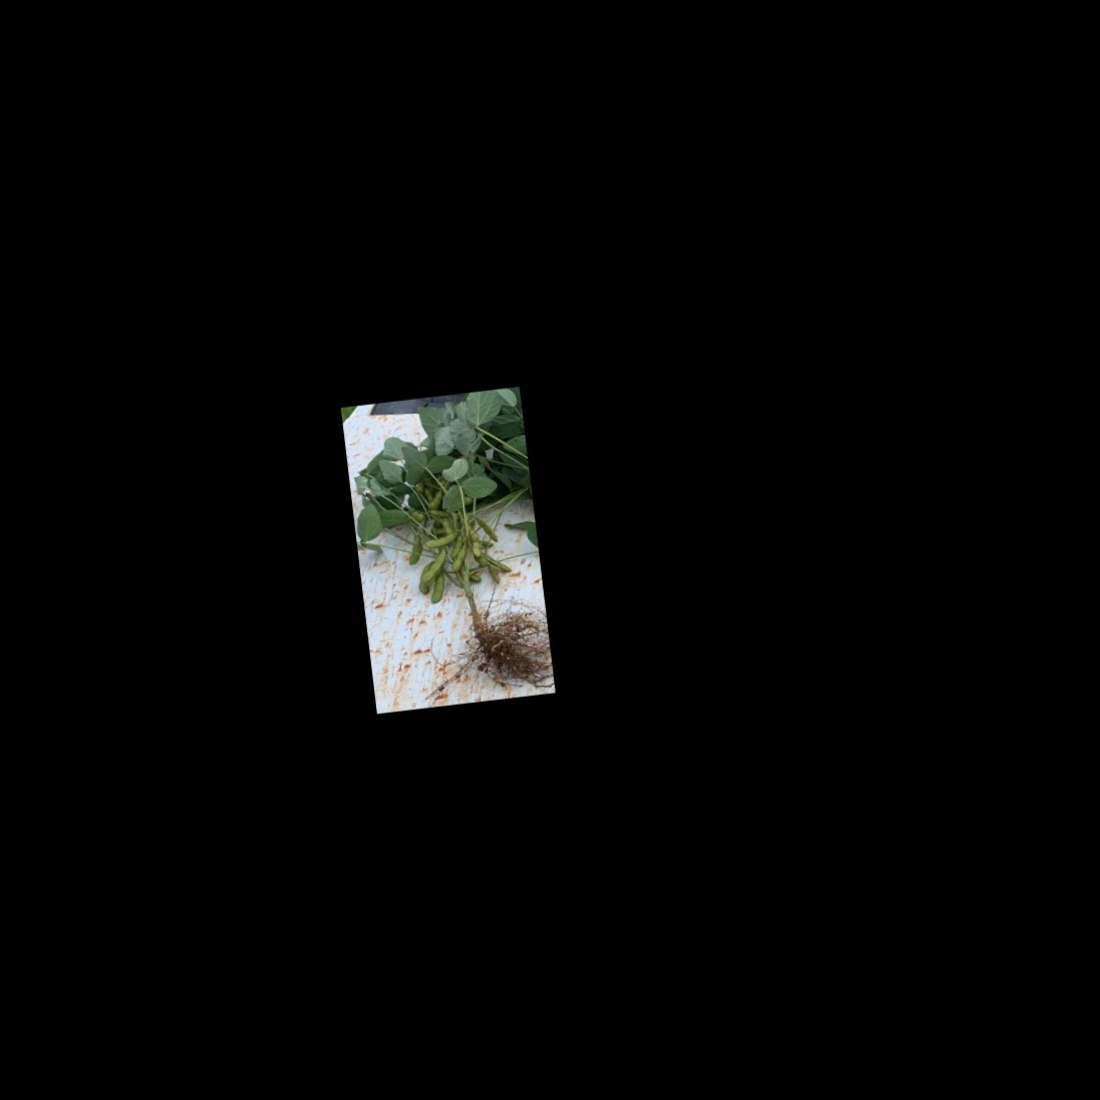pod: (418, 546, 453, 586), (421, 530, 466, 549), (473, 510, 499, 544), (482, 549, 513, 576), (425, 569, 448, 604), (448, 543, 468, 575)
soy: (348, 402, 549, 703)
